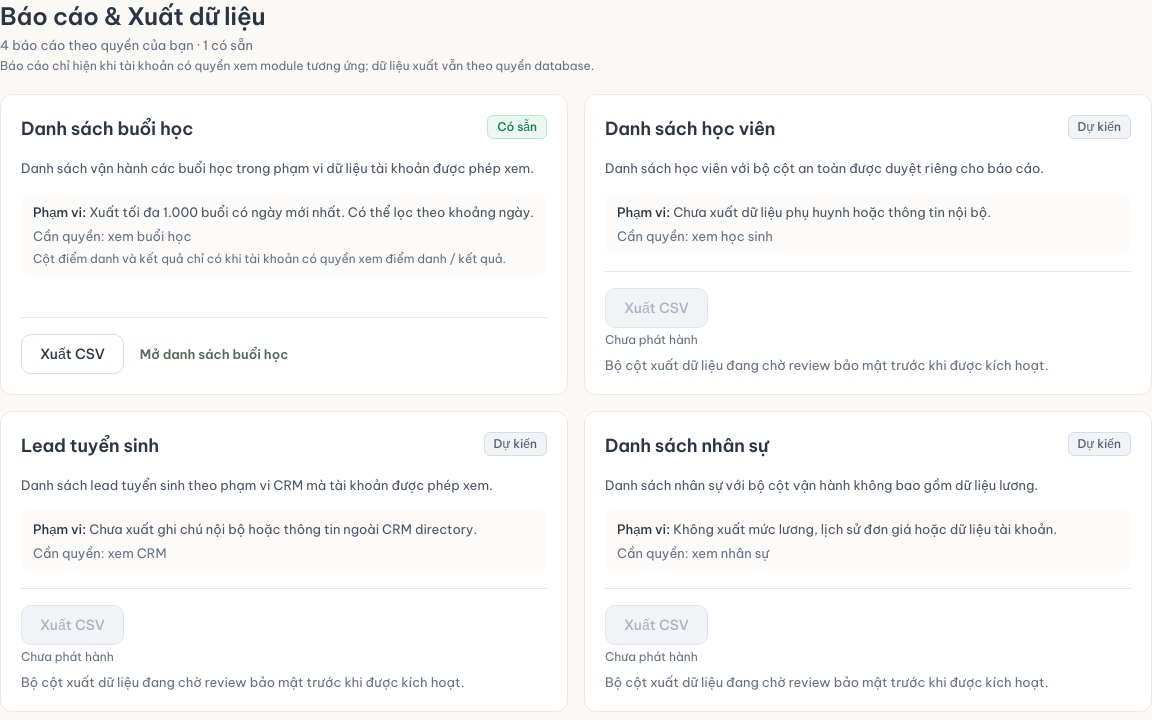
Test: /dev/lists reports preview › never submits the export: a valid range is prevented and the preview notice is announced
This screenshot has width=1152, height=720.
Click the button with aria-label "Xuất CSV: Danh sách buổi học": (72, 354) x1=21 y1=334 x2=124 y2=374
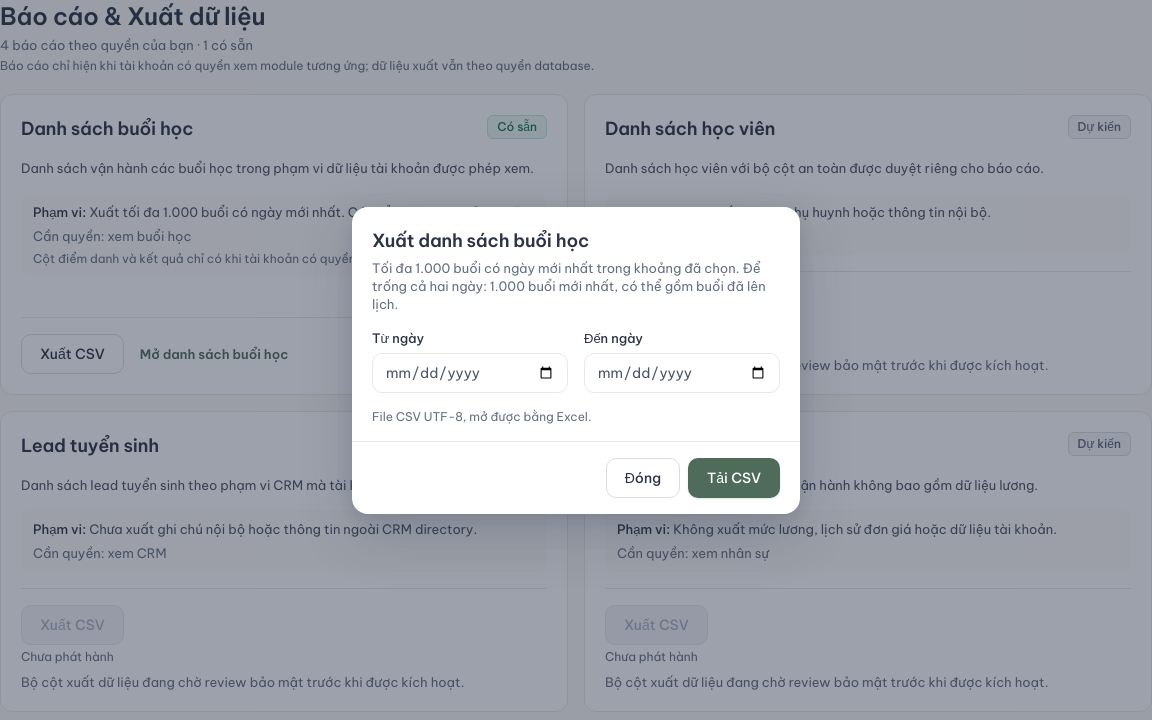
In the date field labelled "Từ ngày": (470, 372) x1=372 y1=352 x2=568 y2=392, type "2026-10-01"
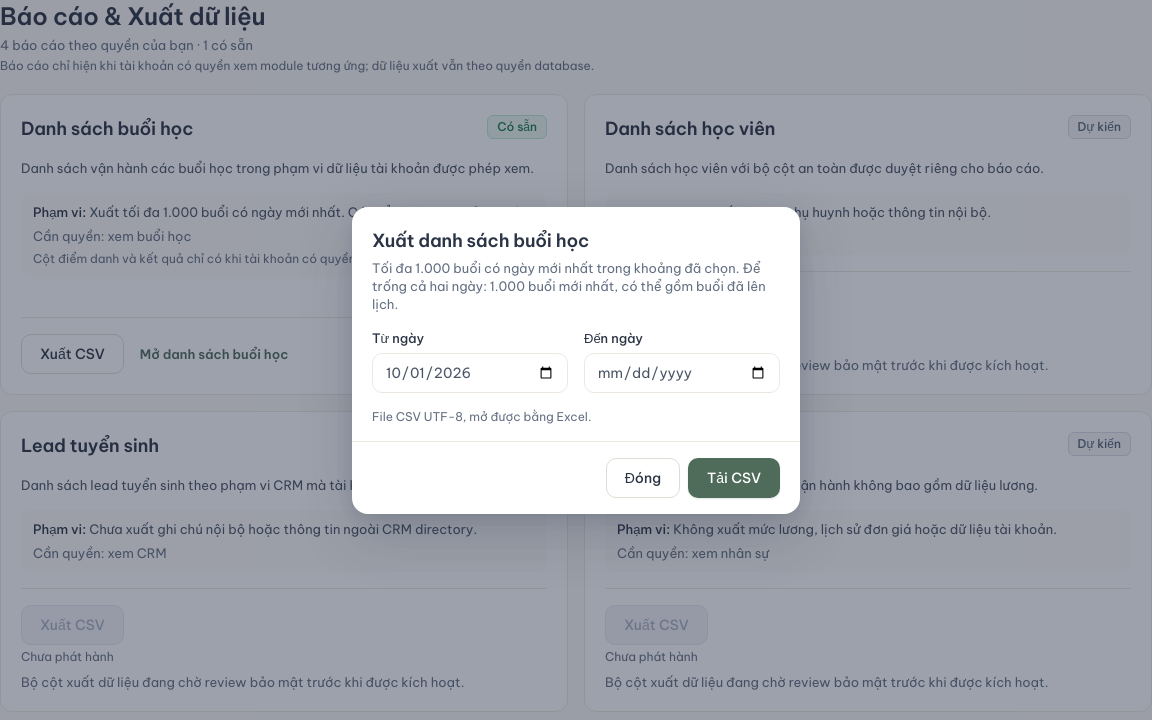
In the date field labelled "Đến ngày": (682, 372) x1=584 y1=352 x2=780 y2=392, type "2026-10-16"
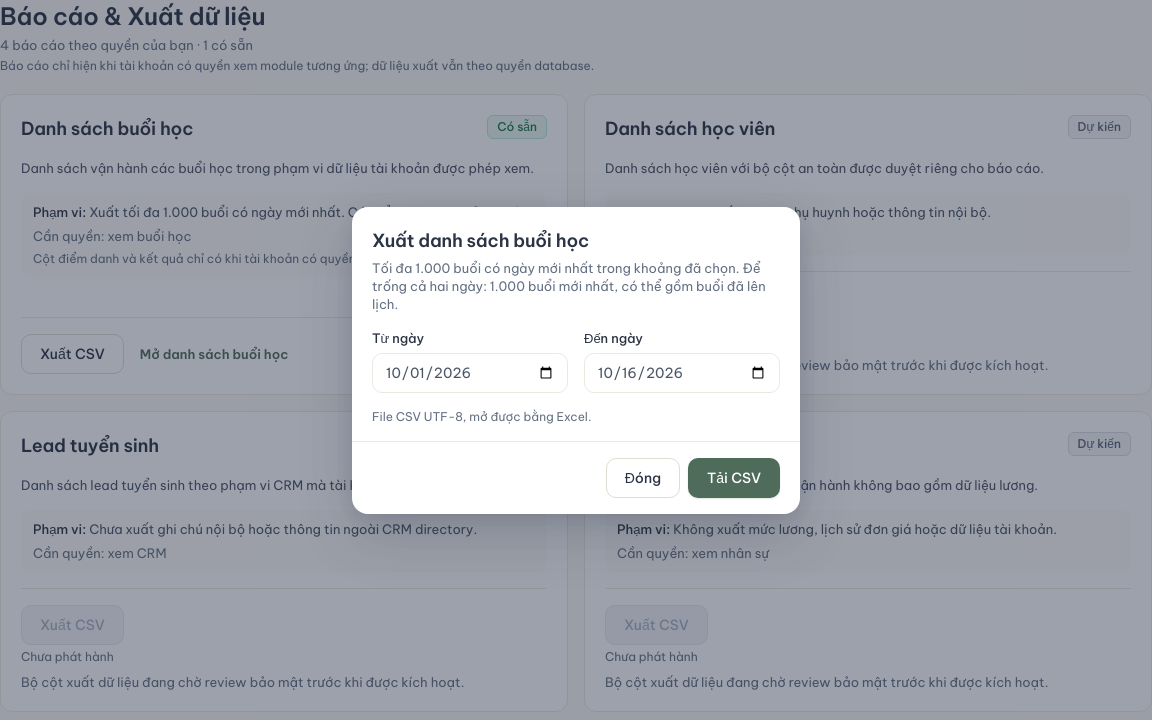
Click the button "Tải CSV": (734, 478) x1=688 y1=458 x2=780 y2=498
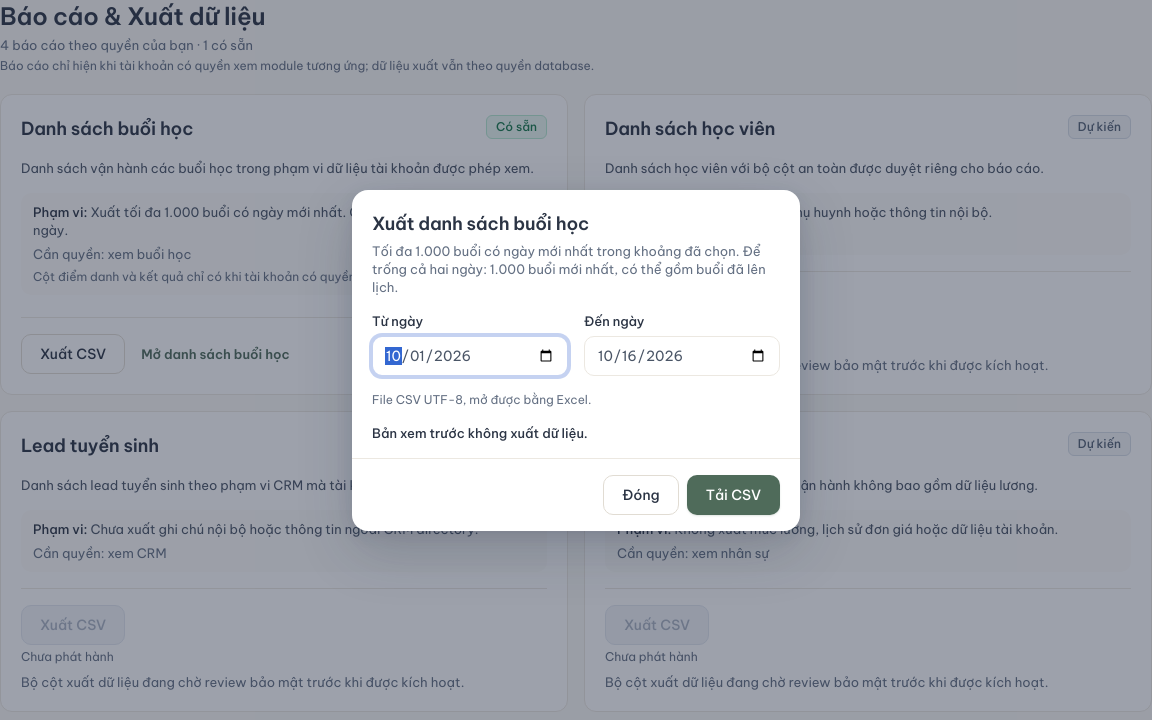
Expected: the dialog is shown, x1=352 y1=190 x2=800 y2=530
Expected: the message reads "Bản xem trước không xuất dữ liệu.", x1=372 y1=424 x2=588 y2=440
